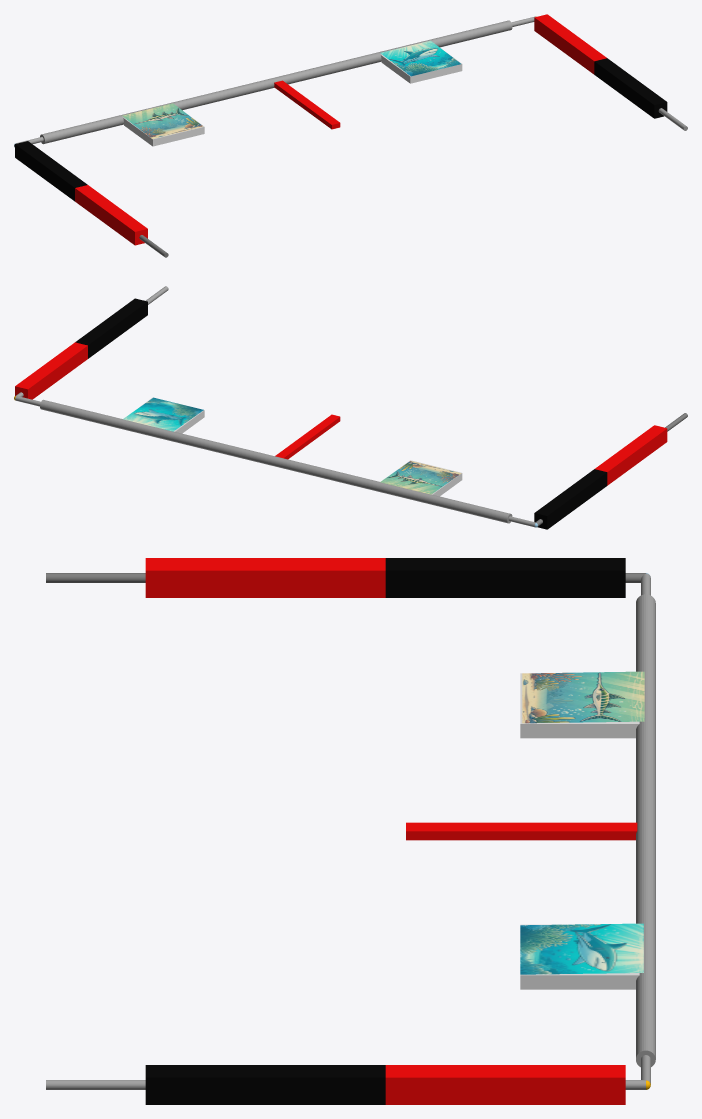
Rendered from Robosubgate2025.obj.
3 views of the same model, one above another, from view 1: azimuth 30°, elevation 25°; view 2: azimuth 150°, elevation 25°; view 3: azimuth 270°, elevation 25° (orthographic). The views are drawn at different scales.
Visible parts, largest first — view 1: RobosubGate_Copy_1.001, RobosubGate_Copy_1.005, RobosubGate_Copy_1.008, RobosubGate_Copy_1, sawfish, RobosubGate_Copy_1.002, shark, RobosubGate_Copy_1.004; view 2: RobosubGate_Copy_1.001, RobosubGate_Copy_1.002, RobosubGate_Copy_1, RobosubGate_Copy_1.008, RobosubGate_Copy_1.005, shark, sawfish, RobosubGate_Copy_1.004; view 3: RobosubGate_Copy_1.001, RobosubGate_Copy_1, RobosubGate_Copy_1.002, RobosubGate_Copy_1.005, RobosubGate_Copy_1.008, sawfish, shark, RobosubGate_Copy_1.004, RobosubGate_Copy_1.006, RobosubGate_Copy_1.009.
Part boxes in pixels (x1,y1,x2,y2): RobosubGate_Copy_1.001: [40, 20, 512, 146]; RobosubGate_Copy_1.005: [594, 58, 667, 118]; RobosubGate_Copy_1.008: [75, 185, 147, 245]; RobosubGate_Copy_1: [534, 14, 606, 74]; sawfish: [122, 103, 202, 138]; RobosubGate_Copy_1.002: [15, 141, 87, 201]; shark: [380, 40, 460, 76]; RobosubGate_Copy_1.004: [274, 80, 340, 129]; RobosubGate_Copy_1.001: [40, 397, 512, 523]; RobosubGate_Copy_1.002: [534, 469, 607, 529]; RobosubGate_Copy_1: [15, 342, 87, 399]; RobosubGate_Copy_1.008: [595, 425, 667, 485]; RobosubGate_Copy_1.005: [75, 298, 147, 358]; shark: [123, 397, 203, 431]; sawfish: [380, 460, 461, 494]; RobosubGate_Copy_1.004: [275, 414, 340, 459]; RobosubGate_Copy_1.001: [520, 594, 655, 1067]; RobosubGate_Copy_1: [385, 1065, 625, 1104]; RobosubGate_Copy_1.002: [385, 558, 625, 597]; RobosubGate_Copy_1.005: [145, 1065, 385, 1104]; RobosubGate_Copy_1.008: [145, 558, 385, 597]; sawfish: [522, 671, 644, 723]; shark: [520, 923, 643, 974]; RobosubGate_Copy_1.004: [406, 822, 637, 840]; RobosubGate_Copy_1.006: [46, 1080, 645, 1089]; RobosubGate_Copy_1.009: [46, 573, 645, 582].
Bounding box in the file's own units: 3.12 × 0.0762 × 1.55.
10 materials, 2 textured.
